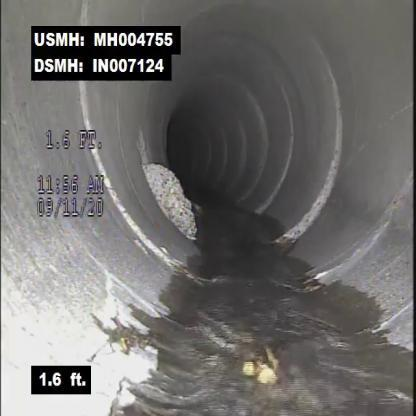Debris: (134, 143, 207, 242)
